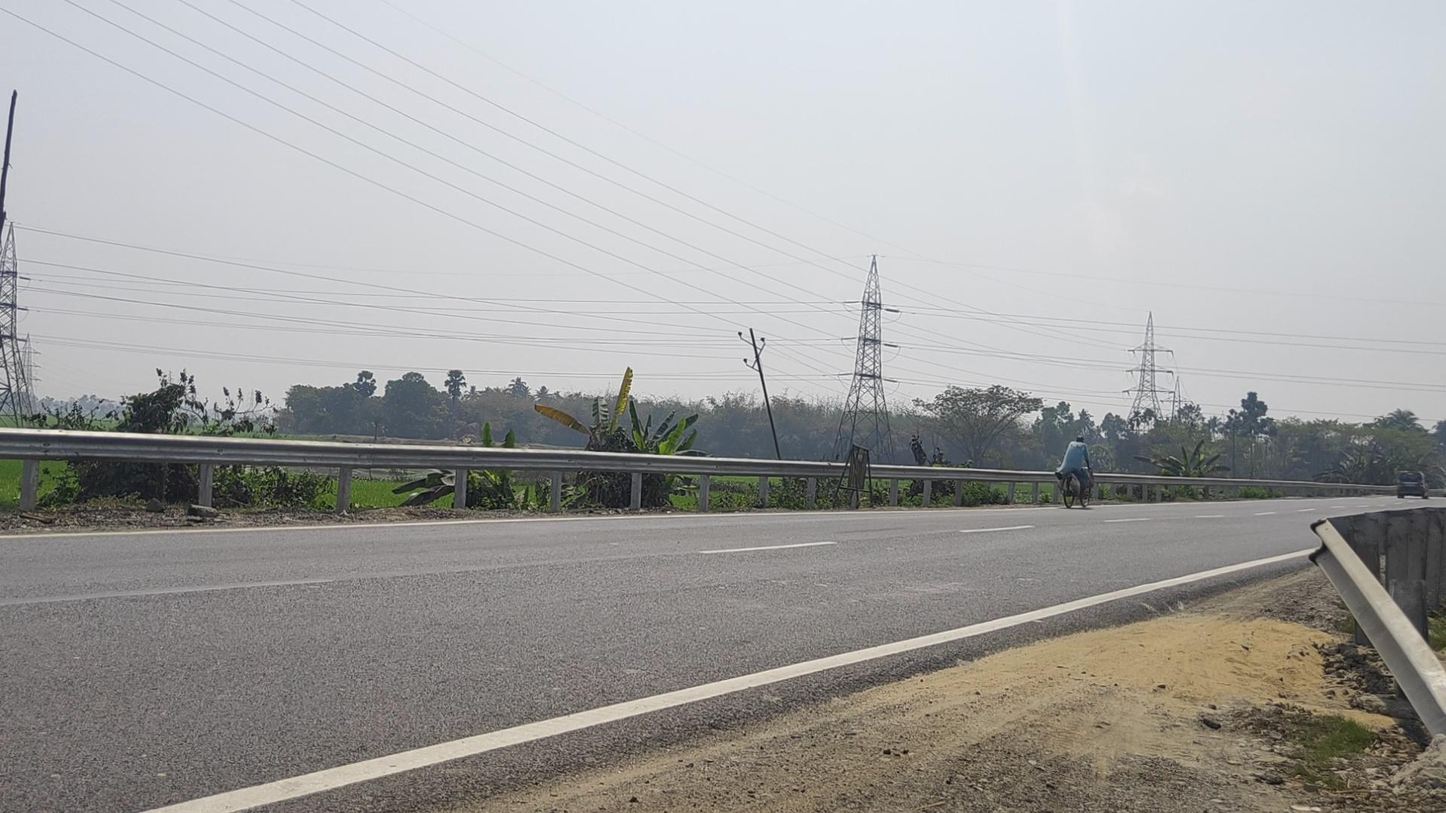bike: (1055, 436, 1093, 508)
car: (1397, 470, 1429, 499)
